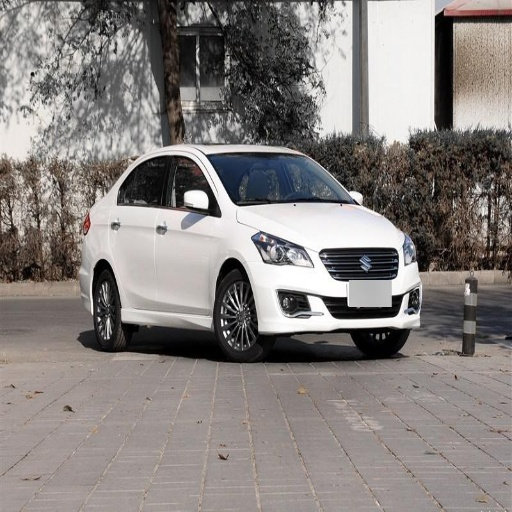back_right_door: (109, 154, 169, 310)
front_bumper: (251, 240, 422, 331)
front_right_door: (156, 153, 220, 314)
front_right_light: (252, 231, 312, 267)
